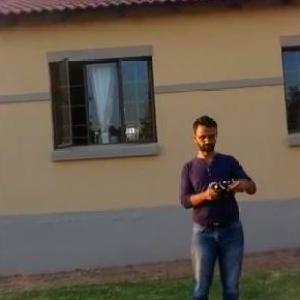follow: (170, 108, 260, 299)
